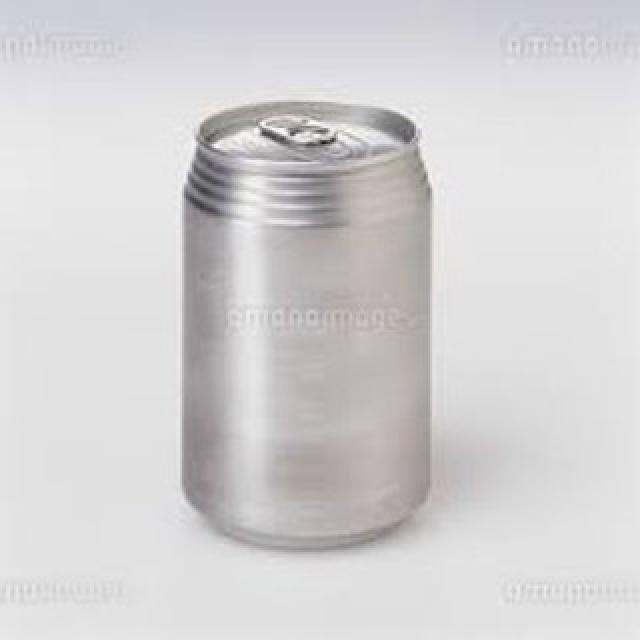recyclable: (179, 96, 434, 552)
